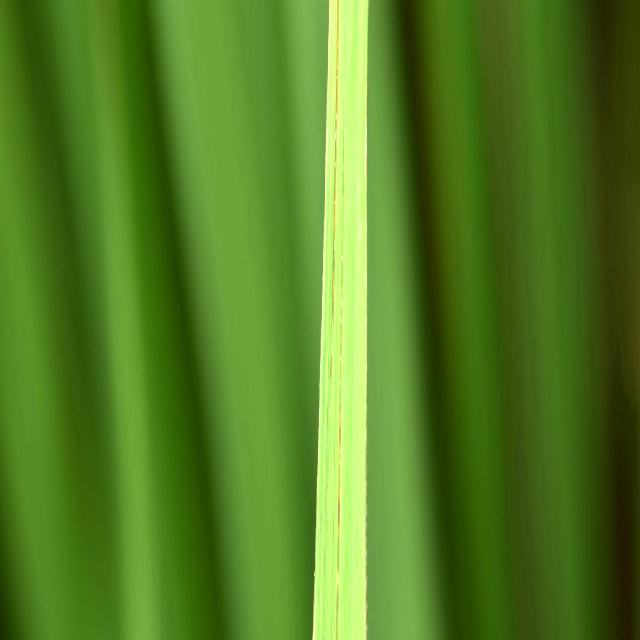BLS: (336, 133, 344, 640), (332, 0, 340, 321)
